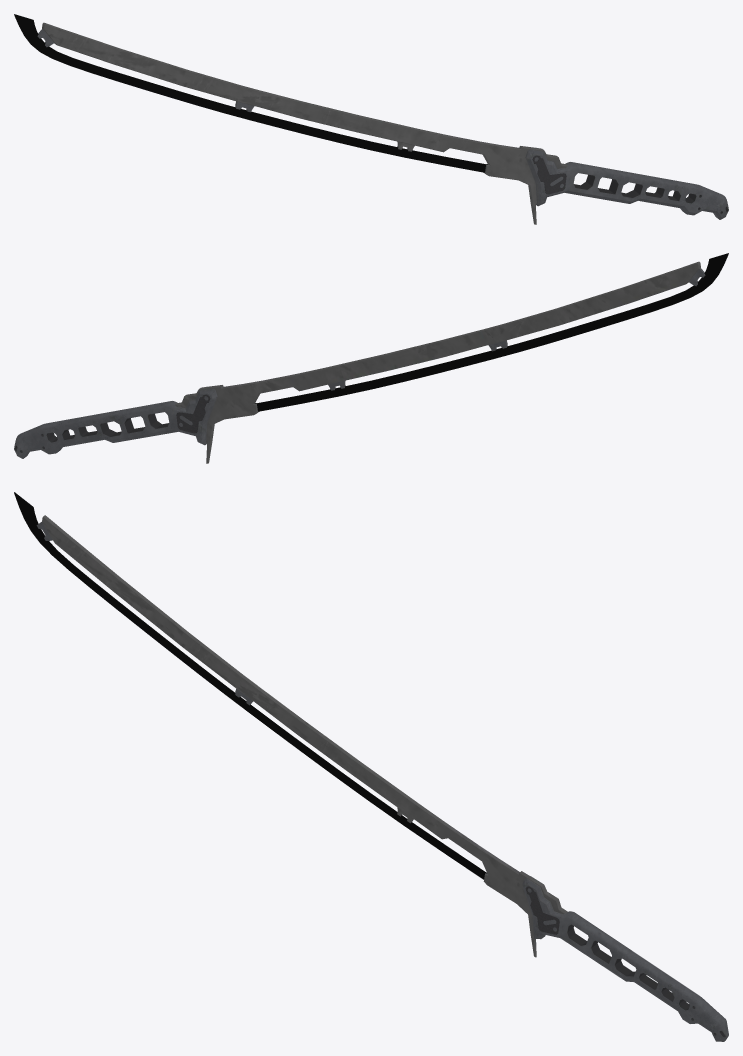
File: schwert.glb
3 views of the same model, one above another, from view 1: azimuth 30°, elevation 25°; view 2: azimuth 150°, elevation 25°; view 3: azimuth 330°, elevation 25° (orthographic).
Visible parts, largest first — view 1: Object_4; view 2: Object_4; view 3: Object_4.
Part boxes in pixels (bbox=[...]): Object_4: bbox=[14, 14, 728, 224]; Object_4: bbox=[14, 253, 728, 463]; Object_4: bbox=[14, 492, 728, 1041].
Size of the model in its own units: 9.88 by 4.98 by 0.17.
Materials: 1 (1 with a texture image).
